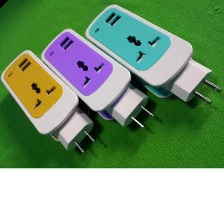three_eye_plug: (79, 1, 224, 110), (38, 25, 159, 131), (0, 46, 100, 158)
